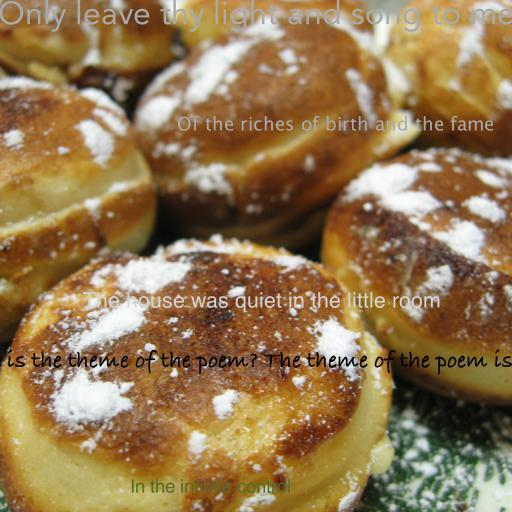Apple Chancery: (83, 292, 441, 313)
Avenir: (0, 0, 512, 32)
Bradley Hand: (0, 349, 512, 375)
Lucida Grande: (176, 115, 494, 131)
SignPainter: (129, 479, 291, 493)
